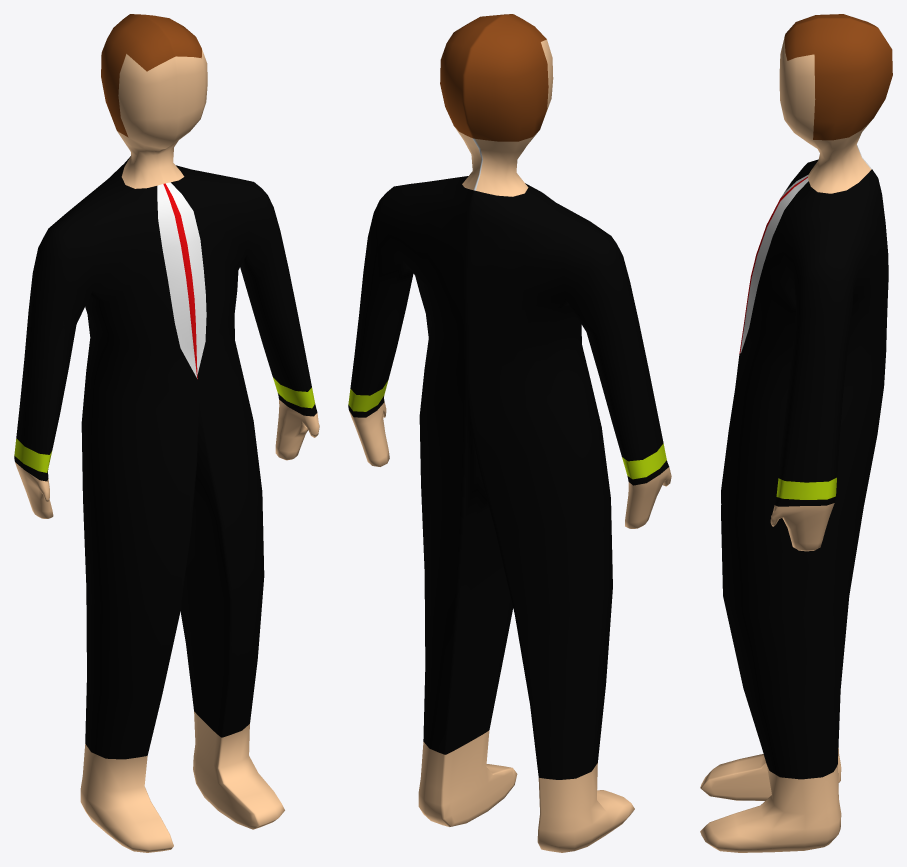
The model's file is Ticket.fbx.
The picture shows the model from 3 angles, left to right: view 1: azimuth 30°, elevation 25°; view 2: azimuth 150°, elevation 25°; view 3: azimuth 270°, elevation 25°; orthographic projection. The views are drawn at different scales.
Visible parts, largest first — view 1: Cube; view 2: Cube; view 3: Cube.
Part boxes in pixels (box(x1,y1,x2,y2)): Cube: box(14, 14, 319, 852); Cube: box(348, 14, 671, 852); Cube: box(700, 14, 892, 852).
Size of the model in its own units: 283 by 739 by 161.
